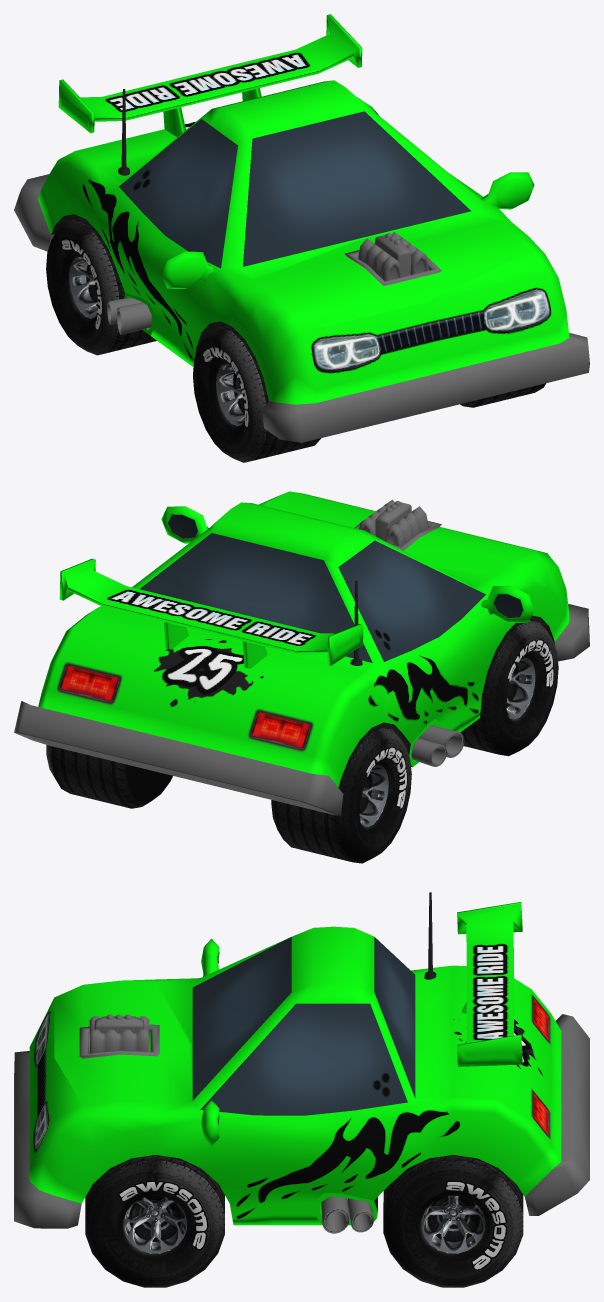
Rendered from toon-race-car.fbx.
3 views of the same model, one above another, from view 1: azimuth 30°, elevation 25°; view 2: azimuth 150°, elevation 25°; view 3: azimuth 270°, elevation 25° (orthographic).
Parts seen in each view (by area): view 1: BODY1, FRONT_RIGHT_WHEEL, REAR_RIGHT_WHEEL, FRONT_LEFT_WHEEL; view 2: BODY1, REAR_RIGHT_WHEEL, FRONT_RIGHT_WHEEL, REAR_LEFT_WHEEL; view 3: BODY1, REAR_LEFT_WHEEL, FRONT_LEFT_WHEEL.
Part boxes in pixels (x1=…): BODY1: x1=14, y1=14, x2=589, y2=442; FRONT_RIGHT_WHEEL: x1=193, y1=325, x2=321, y2=462; REAR_RIGHT_WHEEL: x1=46, y1=217, x2=156, y2=355; FRONT_LEFT_WHEEL: x1=460, y1=383, x2=545, y2=407; BODY1: x1=14, y1=491, x2=589, y2=815; REAR_RIGHT_WHEEL: x1=271, y1=725, x2=411, y2=863; FRONT_RIGHT_WHEEL: x1=460, y1=620, x2=558, y2=756; REAR_LEFT_WHEEL: x1=46, y1=745, x2=172, y2=808; BODY1: x1=14, y1=892, x2=589, y2=1233; REAR_LEFT_WHEEL: x1=383, y1=1155, x2=523, y2=1287; FRONT_LEFT_WHEEL: x1=85, y1=1155, x2=224, y2=1287.
Size of the model in its own units: 15.14 by 10.19 by 19.93.
